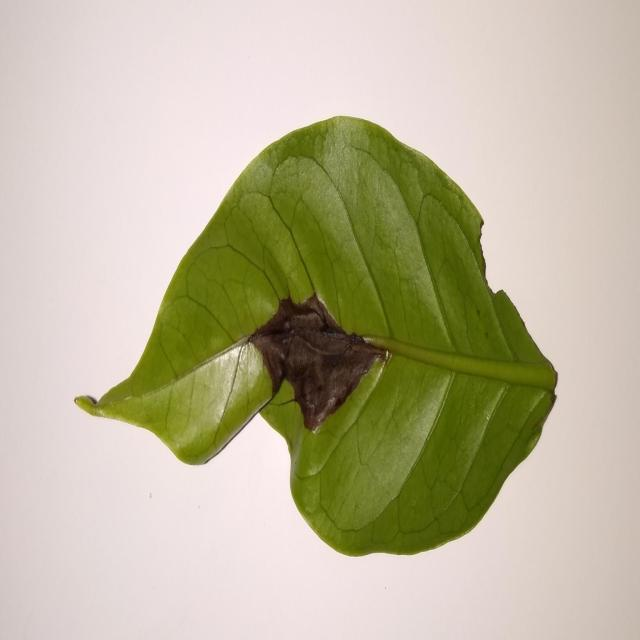Enfermedad-Antracnosis: (72, 116, 559, 561)
